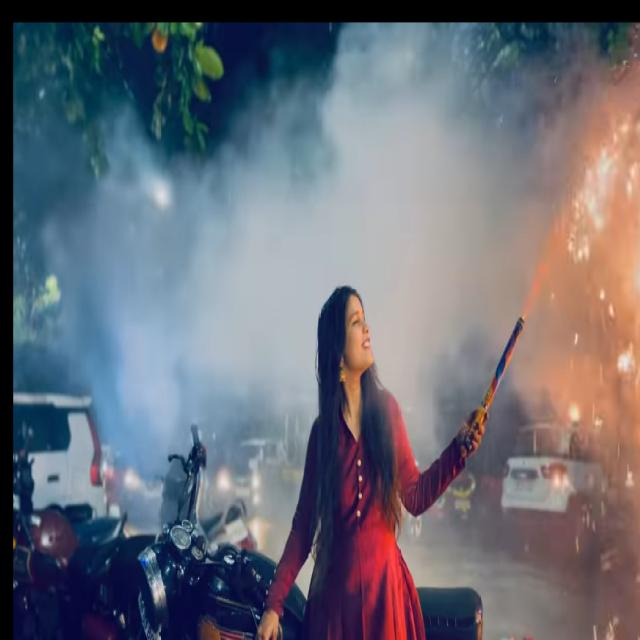fire: (567, 109, 640, 264), (521, 205, 567, 321)
